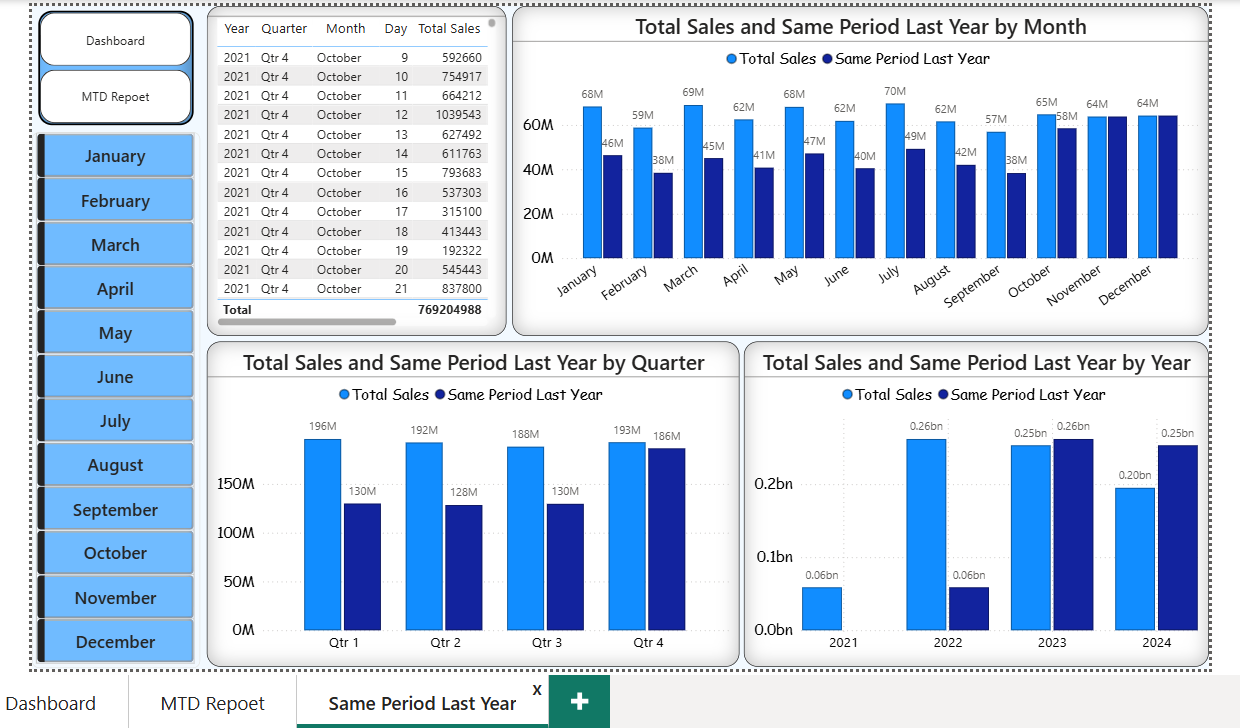

The dashboard page shown, as its layout file describes it:
{"tool":"powerbi","page":{"name":"Same Period Last Year","canvas":[1280,720],"ordinal":2},"visuals":[{"type":"advancedSlicerVisual","fields":{"Values":["custom calender.Date.Variation.Date Hierarchy.Month"]},"box":[0,136.2,182.8,582.8],"z":0},{"type":"clusteredColumnChart","fields":{"Category":["custom calender.Date.Variation.Date Hierarchy.Year","custom calender.Date.Variation.Date Hierarchy.Quarter"],"Y":["mobile sales data.Total Sales","mobile sales data.Same Period Last Year"]},"box":[189.7,365.5,579.3,353.4],"z":1000},{"type":"clusteredColumnChart","fields":{"Category":["custom calender.Date.Variation.Date Hierarchy.Year","custom calender.Date.Variation.Date Hierarchy.Quarter"],"Y":["mobile sales data.Total Sales","mobile sales data.Same Period Last Year"]},"box":[774.1,365.5,505.2,353.4],"z":2000},{"type":"clusteredColumnChart","fields":{"Y":["mobile sales data.Total Sales","mobile sales data.Same Period Last Year"],"Category":["custom calender.Date.Variation.Date Hierarchy.Year","custom calender.Date.Variation.Date Hierarchy.Quarter","custom calender.Date.Variation.Date Hierarchy.Month","custom calender.Date.Variation.Date Hierarchy.Day"]},"box":[522.4,0,756.9,358.6],"z":3000},{"type":"pageNavigator","box":[6.9,5.2,169,124.1],"z":4000},{"type":"tableEx","fields":{"Values":["custom calender.Date.Variation.Date Hierarchy.Year","custom calender.Date.Variation.Date Hierarchy.Quarter","custom calender.Date.Variation.Date Hierarchy.Month","custom calender.Date.Variation.Date Hierarchy.Day","mobile sales data.Total Sales","mobile sales data.Same Period Last Year"]},"box":[189.7,0,325.9,358.6],"z":5000}]}

Visuals, with their boxes on the page's 1280x720 design canvas (x1, y1, x2, y2). These are canvas units, not pixel positions in the 1240x728 screenshot, which may show the page scaled, cropped or inside an application window:
advancedSlicerVisual - custom calender.Date.Variation.Date Hierarchy.Month: (left=0, top=136, right=183, bottom=719)
clusteredColumnChart - custom calender.Date.Variation.Date Hierarchy.Year x custom calender.Date.Variation.Date Hierarchy.Quarter: (left=190, top=366, right=769, bottom=719)
clusteredColumnChart - custom calender.Date.Variation.Date Hierarchy.Year x custom calender.Date.Variation.Date Hierarchy.Quarter: (left=774, top=366, right=1279, bottom=719)
clusteredColumnChart - mobile sales data.Total Sales x mobile sales data.Same Period Last Year: (left=522, top=0, right=1279, bottom=359)
pageNavigator: (left=7, top=5, right=176, bottom=129)
tableEx - custom calender.Date.Variation.Date Hierarchy.Year x custom calender.Date.Variation.Date Hierarchy.Quarter: (left=190, top=0, right=516, bottom=359)
